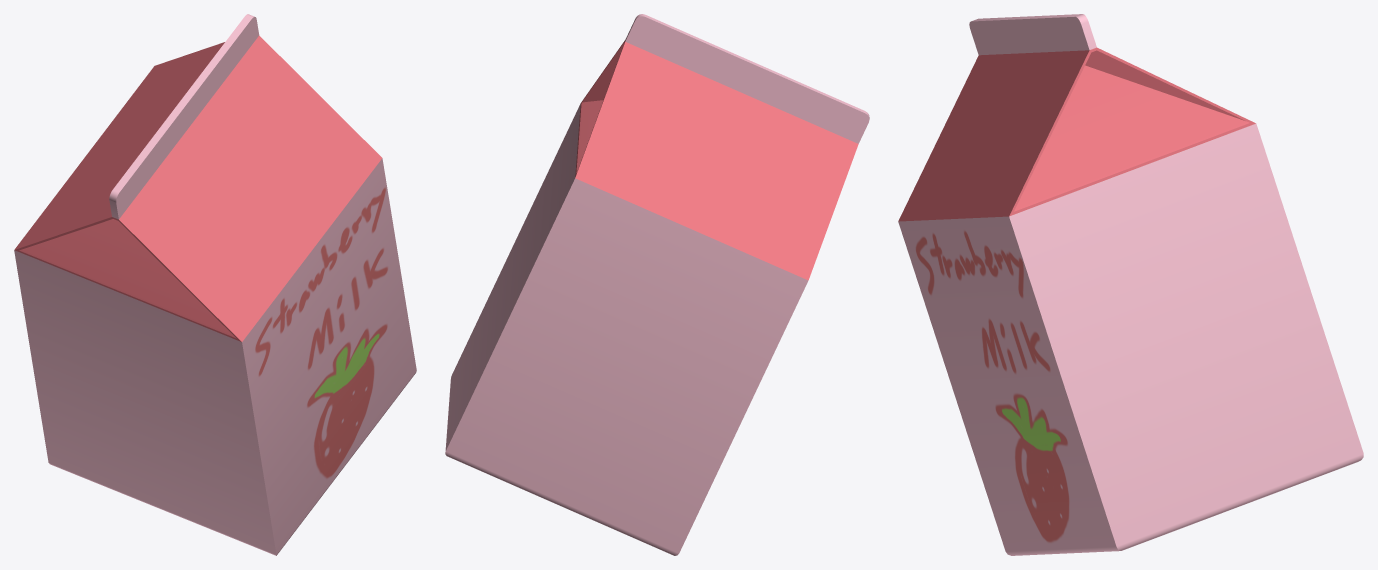
File: milk.glb
3 renders of one model, left to right at view 1: azimuth 30°, elevation 25°; view 2: azimuth 150°, elevation 25°; view 3: azimuth 270°, elevation 25°, orthographic. The views are drawn at different scales.
Parts seen in each view (by area): view 1: 1Milk; view 2: 1Milk; view 3: 1Milk.
Part boxes in pixels (x1,y1,x2,y2): 1Milk: (14,14,416,555); 1Milk: (445,14,869,555); 1Milk: (898,14,1363,555).
Size of the model in its own units: 3.2 by 4.05 by 3.14.
Materials: 2 (1 with a texture image).
